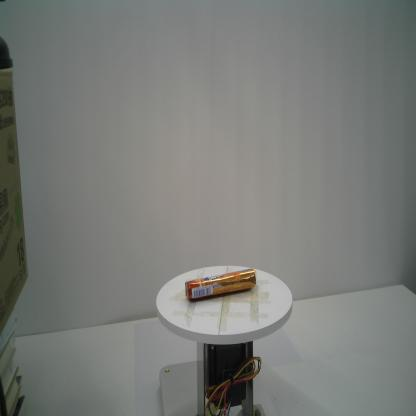Candy: (185, 268, 256, 300)
